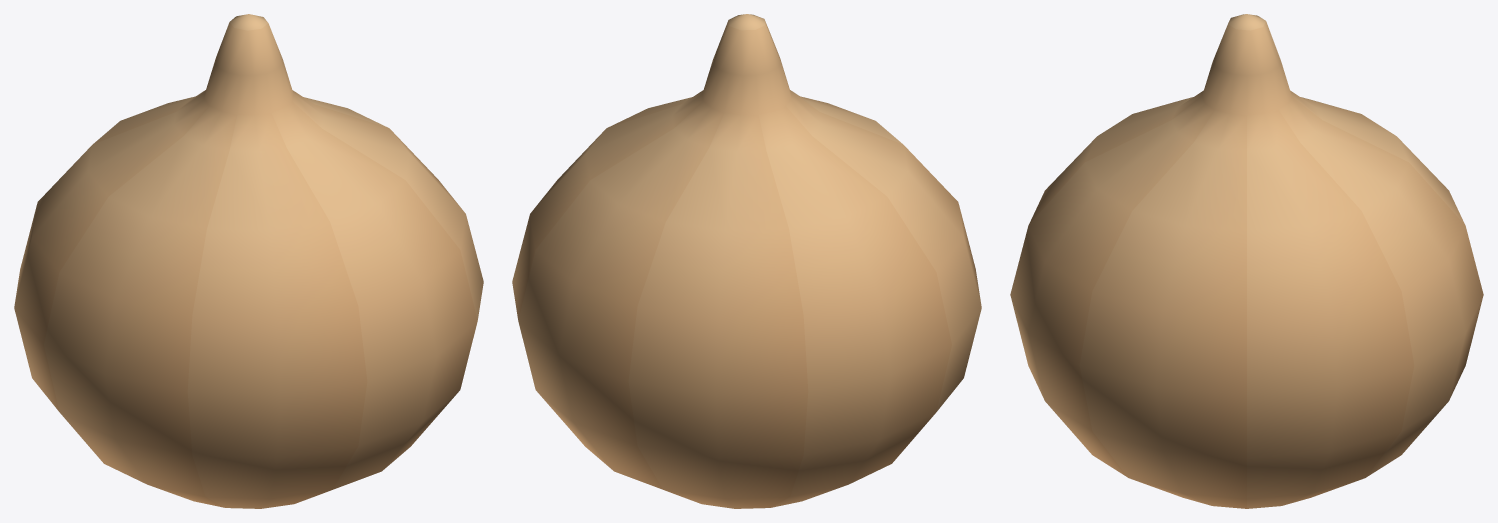
Rendered from re-food_ingredient_onion.glb.
3 renders of one model, left to right at view 1: azimuth 30°, elevation 25°; view 2: azimuth 150°, elevation 25°; view 3: azimuth 270°, elevation 25°, orthographic.
Visible parts, largest first — view 1: food_ingredient_onion; view 2: food_ingredient_onion; view 3: food_ingredient_onion.
Part boxes in pixels (x1,y1,x2,y2): food_ingredient_onion: (14, 14, 483, 508); food_ingredient_onion: (512, 14, 981, 508); food_ingredient_onion: (1010, 14, 1483, 508).
Size of the model in its own units: 0.75 by 0.8624 by 0.75.
1 material, 1 textured.
